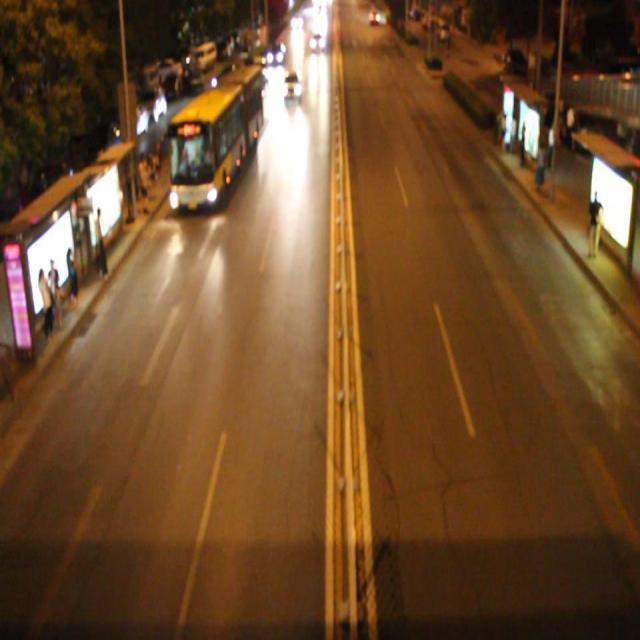car: (281, 67, 302, 102)
van: (170, 66, 260, 208)
